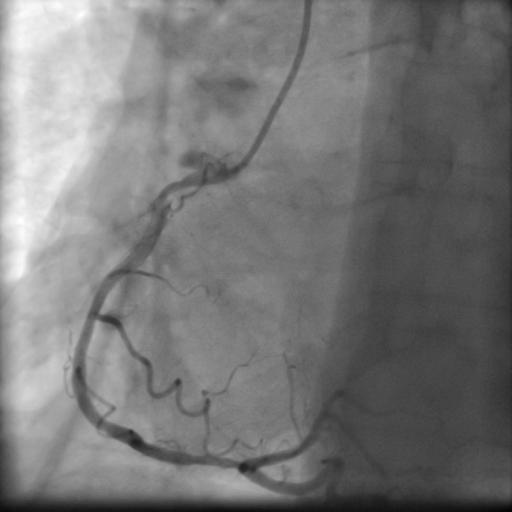Stenosis: (185, 445, 236, 479)
